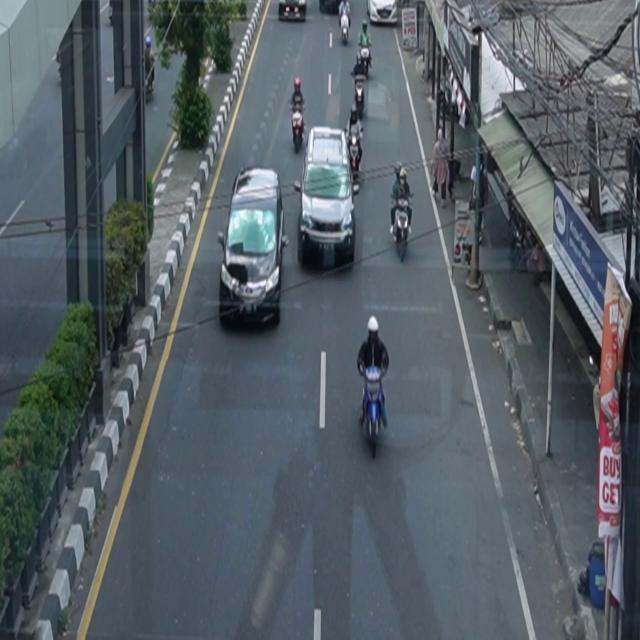car: (218, 166, 290, 328), (295, 126, 358, 269), (279, 1, 308, 23)
